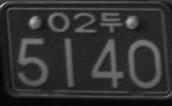0: (127, 38, 162, 89), (47, 11, 70, 33)
1: (55, 38, 85, 87)
2: (73, 12, 97, 33)
4: (90, 38, 124, 88)
5: (16, 37, 49, 87)
두: (100, 11, 123, 34)
